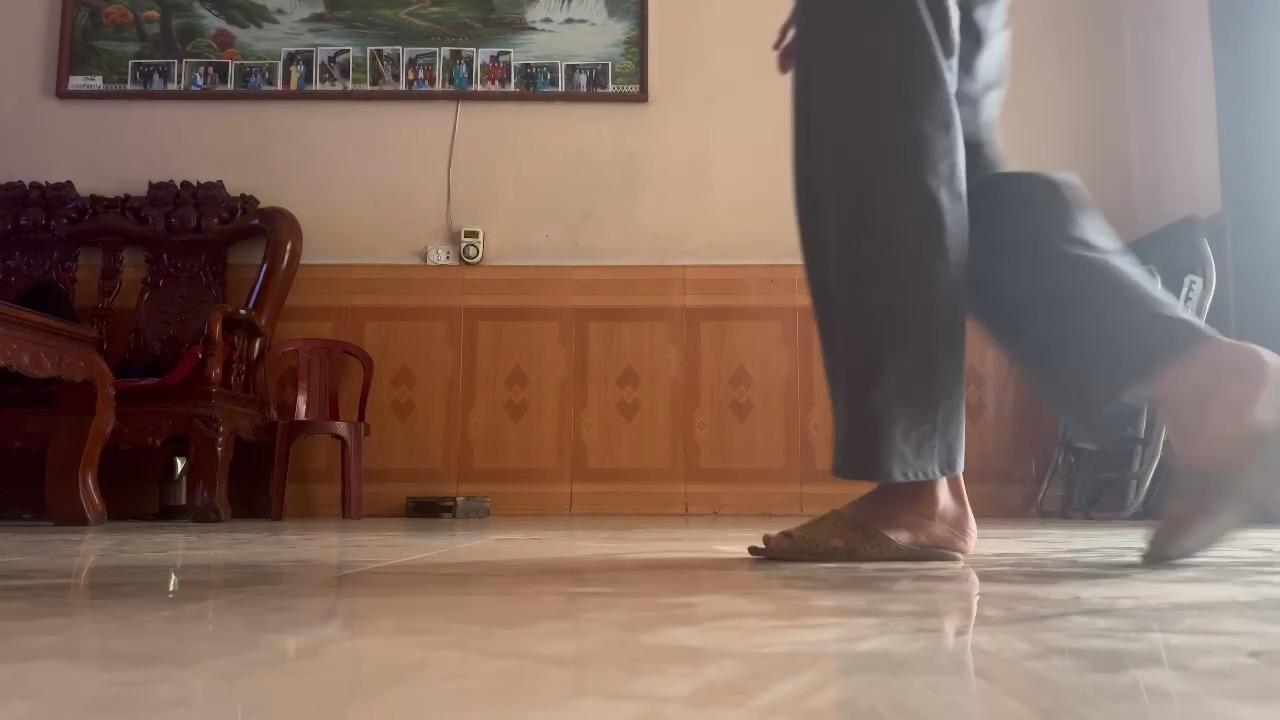no-boot: (1121, 322, 1280, 573), (738, 481, 982, 572)
